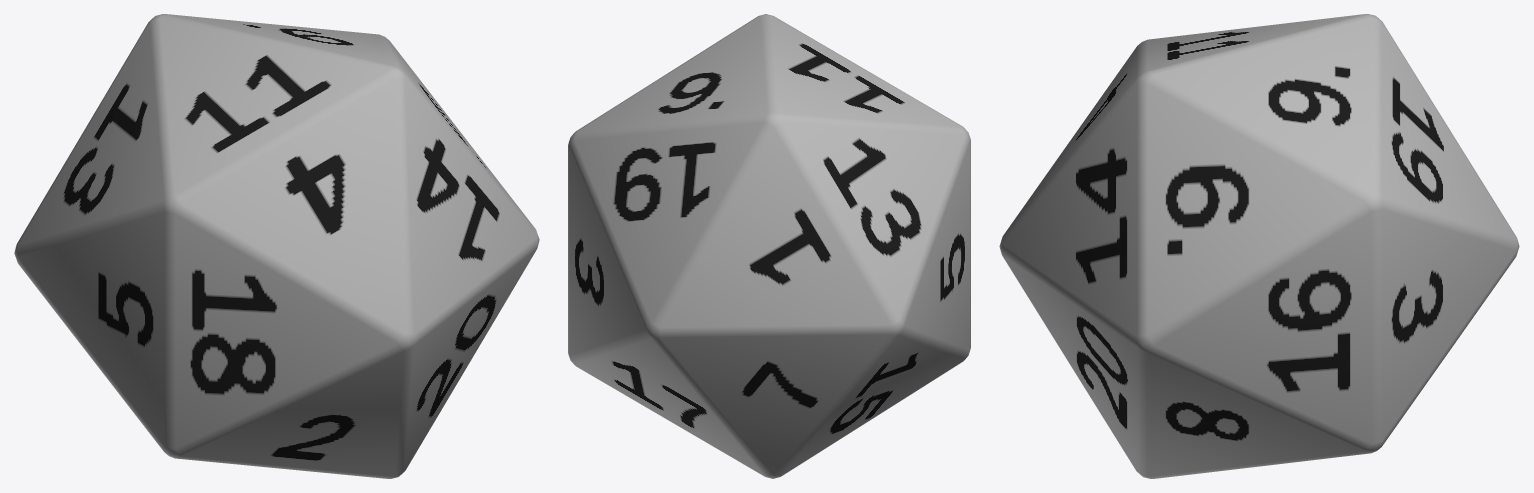
3 renders of one model, left to right at view 1: azimuth 30°, elevation 25°; view 2: azimuth 150°, elevation 25°; view 3: azimuth 270°, elevation 25°, orthographic. The views are drawn at different scales.
Parts seen in each view (by area): view 1: 20Silver_20Silver_0; view 2: 20Silver_20Silver_0; view 3: 20Silver_20Silver_0.
Boxes of the visible parts, bbox=[...] form: 20Silver_20Silver_0: bbox=[14, 14, 539, 478]; 20Silver_20Silver_0: bbox=[568, 14, 970, 478]; 20Silver_20Silver_0: bbox=[999, 14, 1519, 478].
Size of the model in its own units: 1.77 by 1.69 by 1.97.
1 material, 1 textured.
